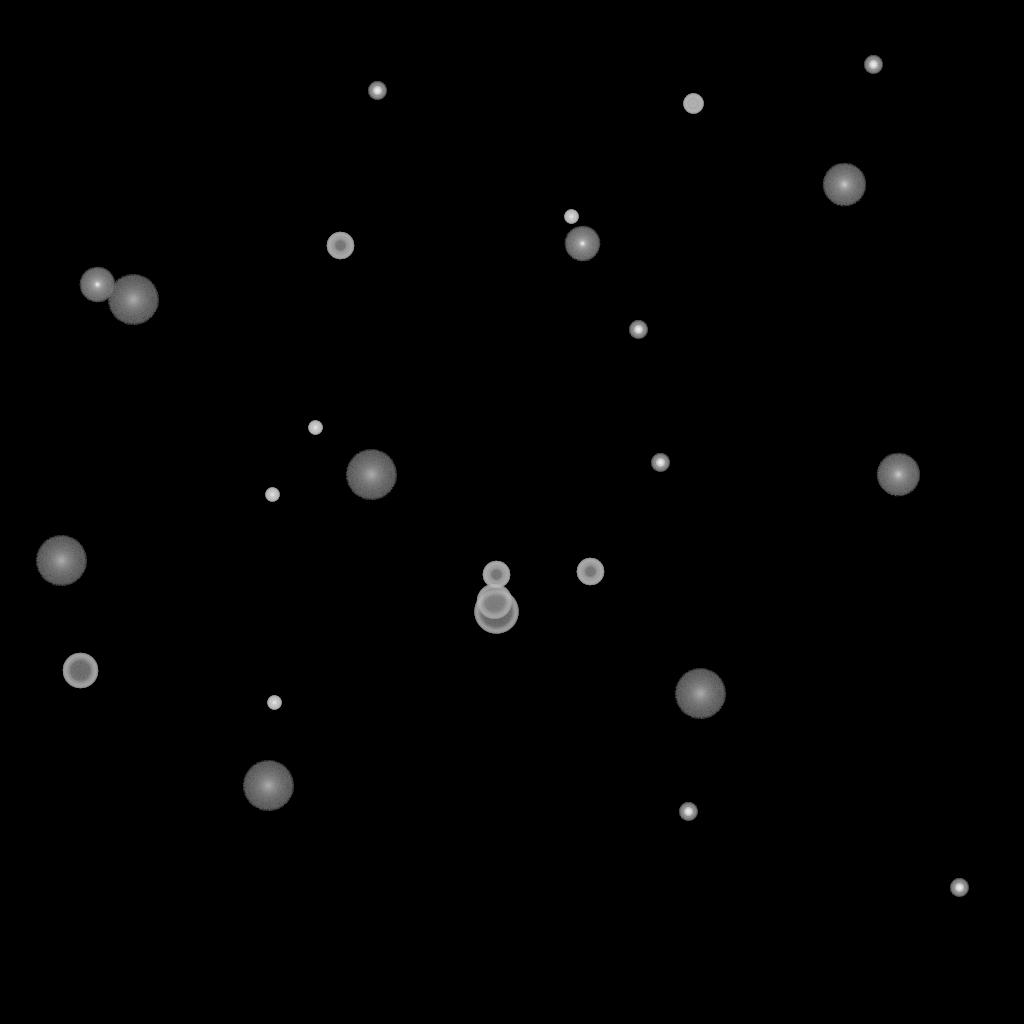depth:-20: (368, 82, 386, 100), (950, 879, 968, 897), (651, 454, 669, 472), (629, 321, 647, 339), (679, 803, 697, 821), (864, 56, 882, 74)
depth:-30: (564, 210, 578, 224), (267, 696, 281, 710), (308, 421, 322, 435), (265, 488, 279, 502)
depth:-40: (683, 94, 703, 114)
depth:-50: (482, 561, 510, 589), (576, 558, 604, 586), (326, 232, 354, 260)
depth:-60: (62, 653, 98, 689), (476, 584, 512, 620)
depth:-70: (474, 590, 518, 634)
depth:0: (79, 267, 115, 303), (564, 226, 600, 262)
depth:10: (822, 163, 866, 207), (876, 453, 920, 497)
depth:20: (35, 536, 87, 586), (674, 669, 726, 719), (345, 450, 397, 500), (107, 275, 159, 325), (242, 761, 294, 811)
